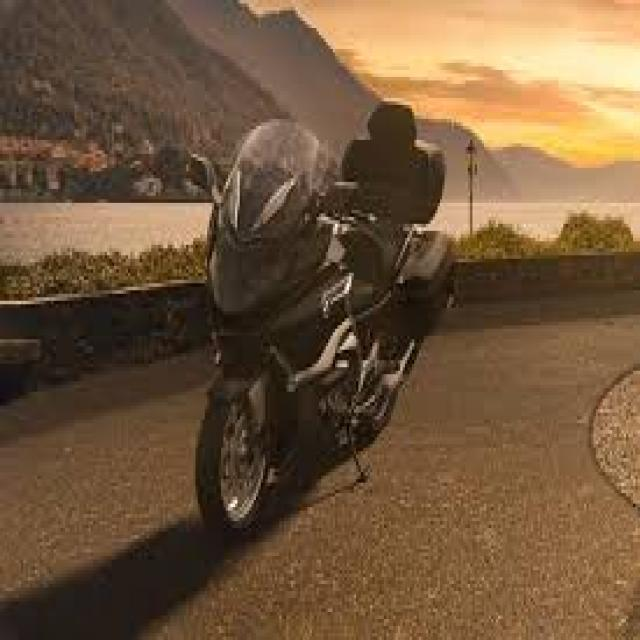Bike: (184, 101, 454, 545)
